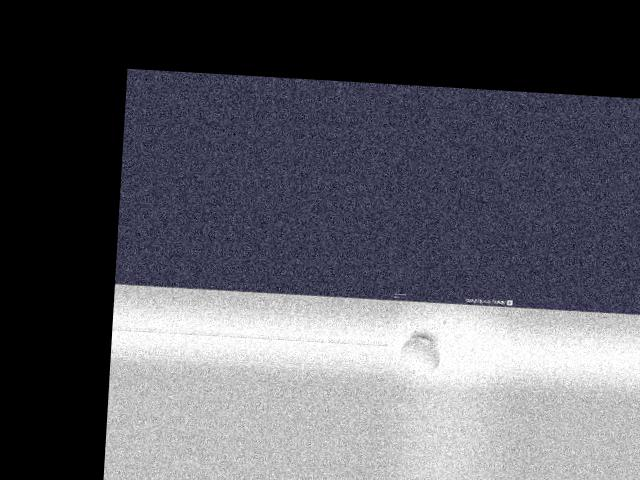egg: (399, 335, 440, 373)
